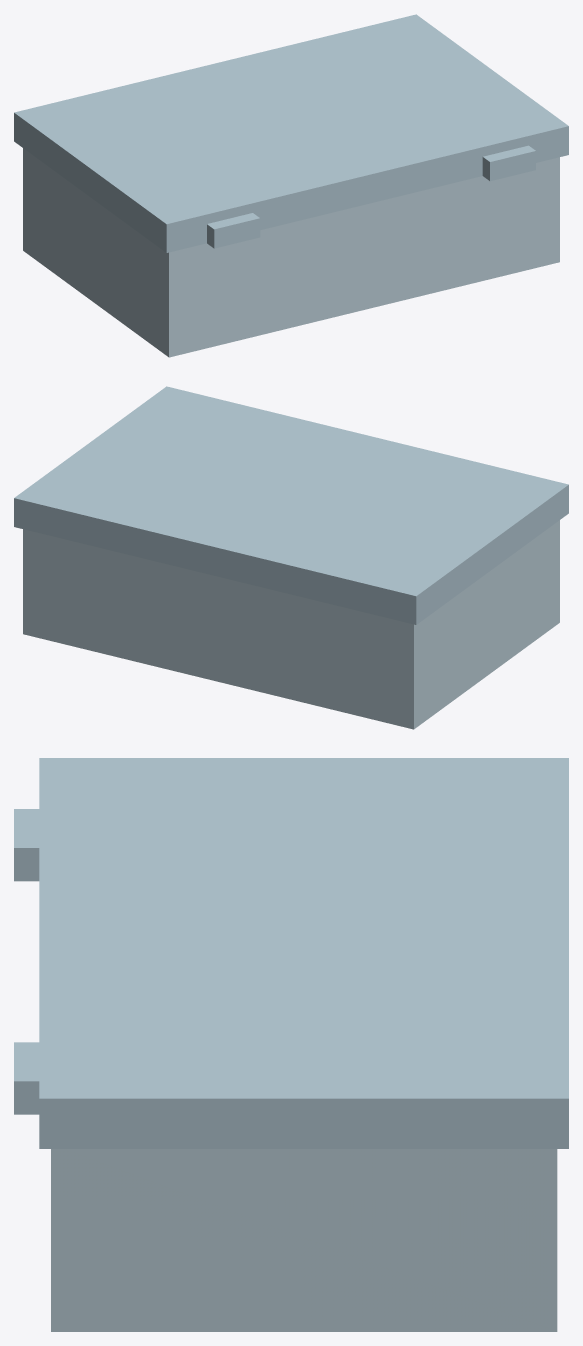
Rendered from item_47_lunch_box.glb.
3 renders of one model, top to bottom at view 1: azimuth 30°, elevation 25°; view 2: azimuth 150°, elevation 25°; view 3: azimuth 270°, elevation 25°, orthographic. The views are drawn at different scales.
Parts seen in each view (by area): view 1: I47_Lid, I47_Body, I47_Latch0, I47_Latch1; view 2: I47_Lid, I47_Body; view 3: I47_Lid, I47_Body, I47_Latch1, I47_Latch0.
Part boxes in pixels (x1,y1,x2,y2): I47_Lid: (14,14,568,252); I47_Body: (23,148,559,357); I47_Latch0: (207,213,260,248); I47_Latch1: (482,145,535,181); I47_Lid: (14,386,568,624); I47_Body: (23,520,559,729); I47_Lid: (39,758,568,1148); I47_Body: (51,1149,557,1331); I47_Latch1: (14,1042,39,1114); I47_Latch0: (14,809,39,881).
Bounding box in the file's own units: 0.175 × 0.057 × 0.1205.
